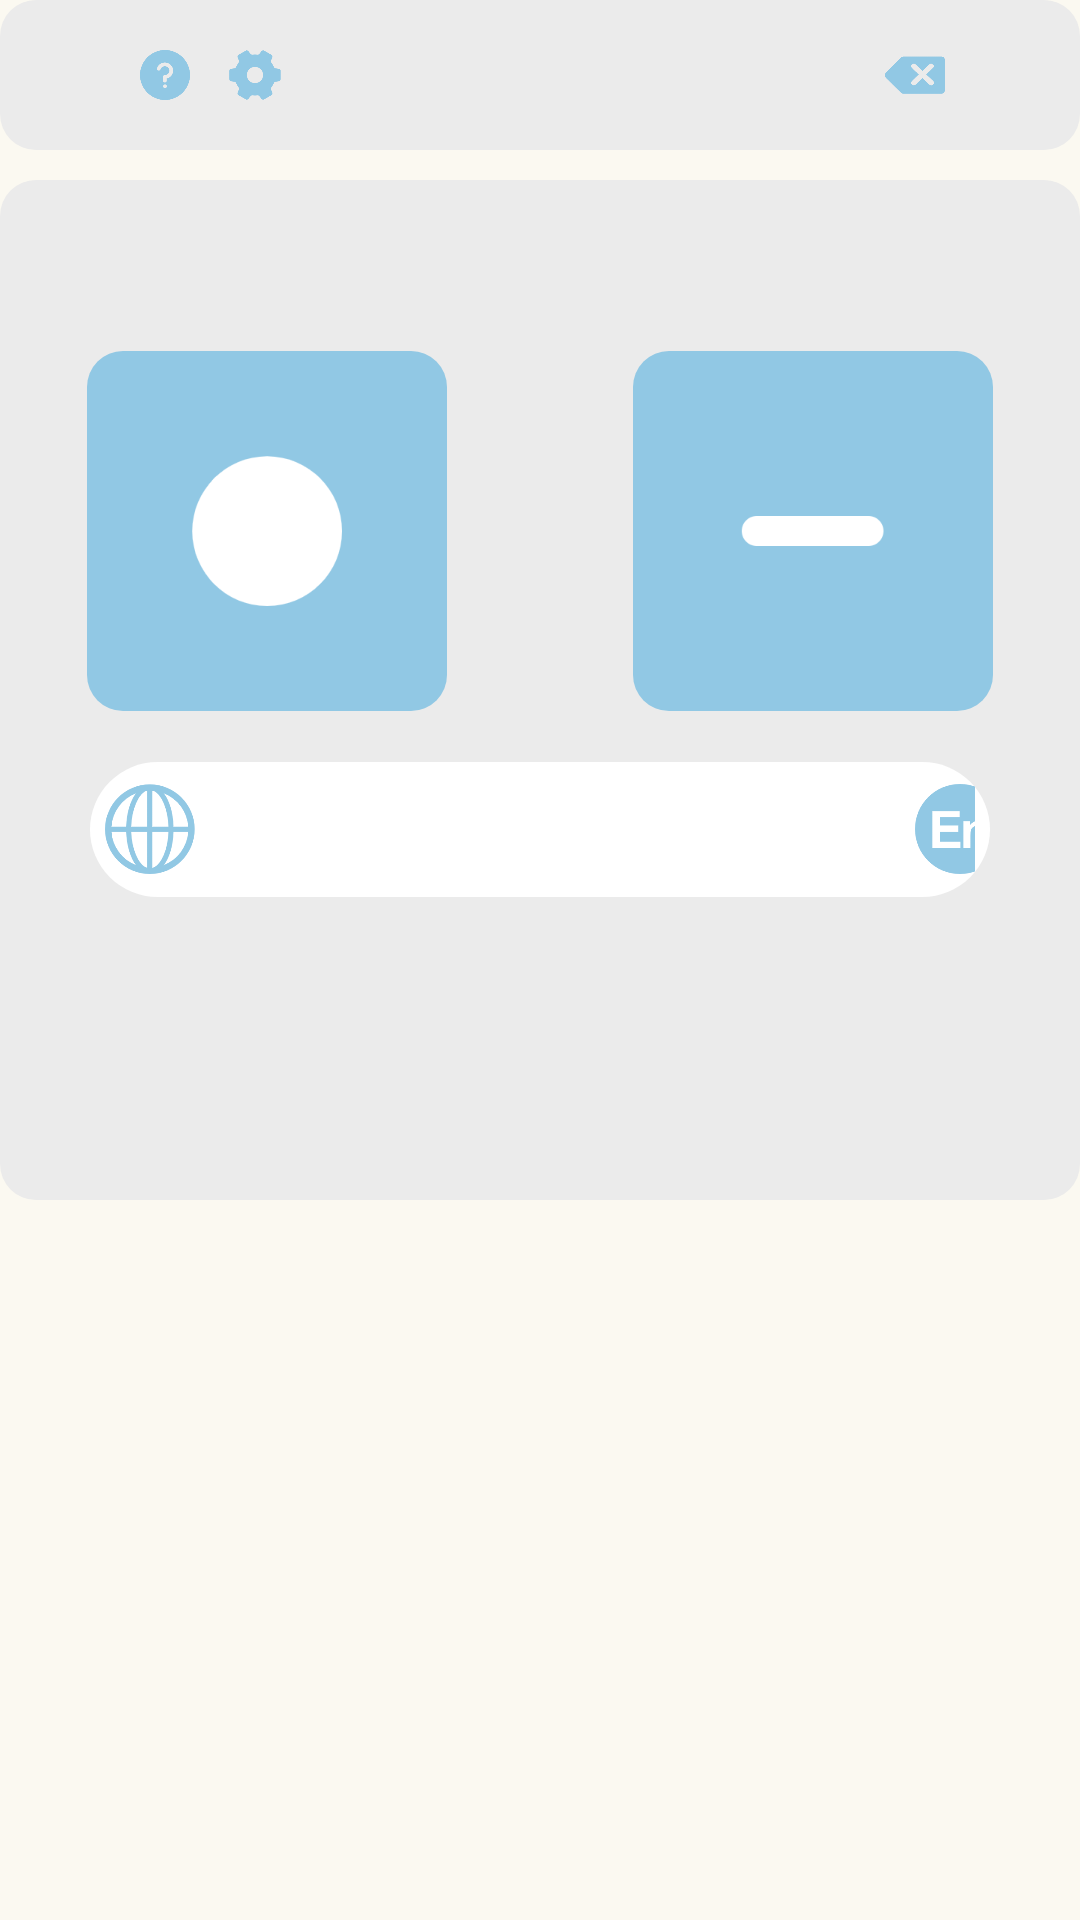

Screen size 1080w x 1920h. Icon name, then its center in pixels as (x=x, y=y):
back: (x=915, y=75)
dots: (x=267, y=531)
help: (x=165, y=75)
ime: (x=150, y=829)
settings: (x=255, y=75)
